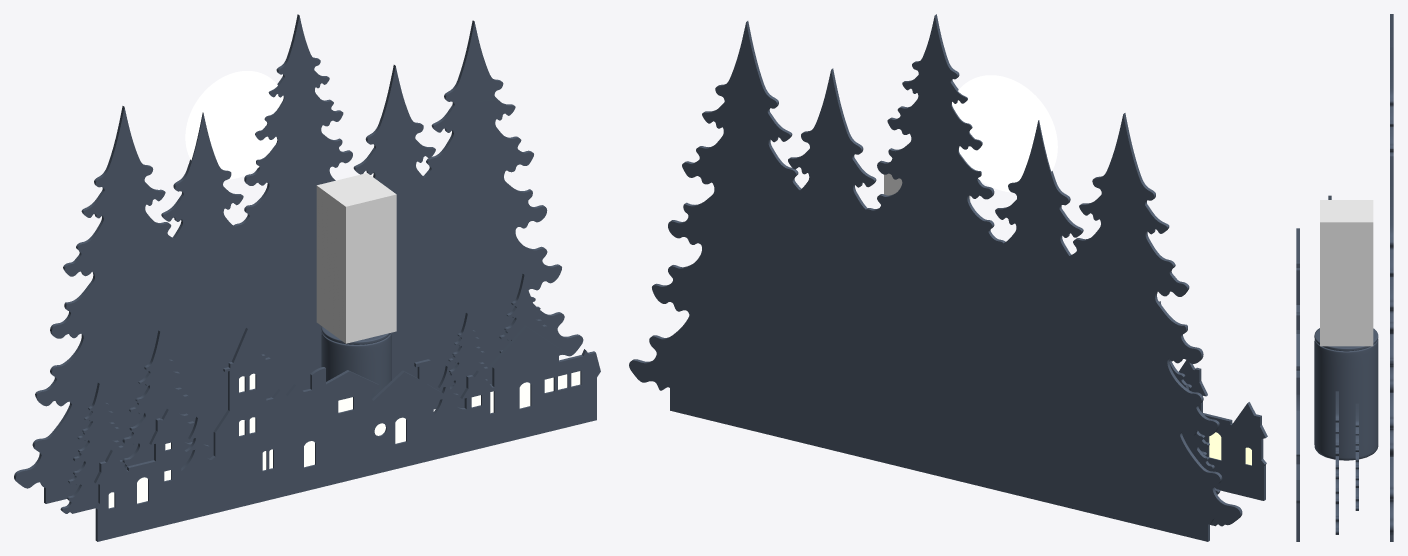
Rendered from village_packshot.glb.
3 renders of one model, left to right at view 1: azimuth 30°, elevation 25°; view 2: azimuth 150°, elevation 25°; view 3: azimuth 270°, elevation 25°, orthographic. The views are drawn at different scales.
Parts seen in each view (by area): view 1: Christmas_decorations_02_004, placeholder1, Cylinder004, Box001, Cylinder002; view 2: Christmas_decorations_02_004, Cylinder004; view 3: placeholder1, Cylinder002, Christmas_decorations_02_004, Cylinder003.
Boxes of the visible parts, x1=… form: Christmas_decorations_02_004: x1=14, y1=14, x2=600, y2=541; placeholder1: x1=316, y1=173, x2=396, y2=343; Cylinder004: x1=185, y1=71, x2=283, y2=179; Box001: x1=108, y1=371, x2=580, y2=508; Cylinder002: x1=321, y1=332, x2=391, y2=398; Christmas_decorations_02_004: x1=629, y1=14, x2=1267, y2=541; Cylinder004: x1=952, y1=75, x2=1057, y2=192; placeholder1: x1=1320, y1=200, x2=1373, y2=346; Cylinder002: x1=1314, y1=339, x2=1378, y2=460; Christmas_decorations_02_004: x1=1296, y1=14, x2=1393, y2=541; Cylinder003: x1=1314, y1=328, x2=1378, y2=351.
Bounding box in the file's own units: 2.91 × 2.09 × 0.4767.
